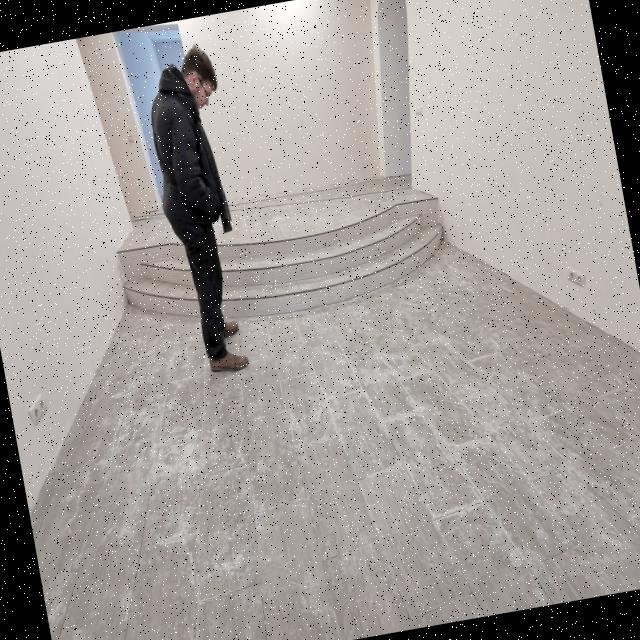NoHelmet: (178, 43, 224, 114)
